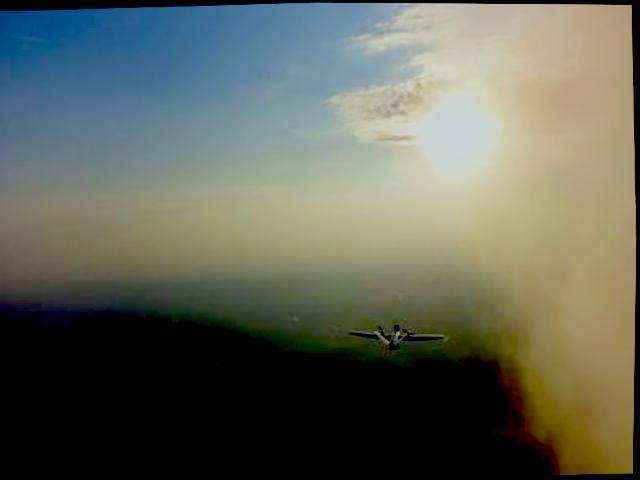uav: (347, 319, 451, 351)
